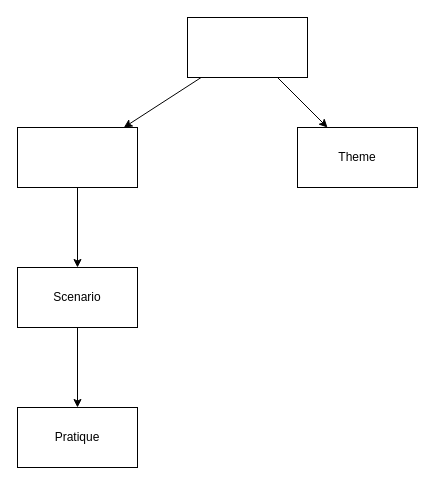
Image size: 435x485. Some labels were removed from this diagram. Each missing label, with the centre of its shape:
"Outil" goes at [247,47].
"Section[]" goes at [77,157].
